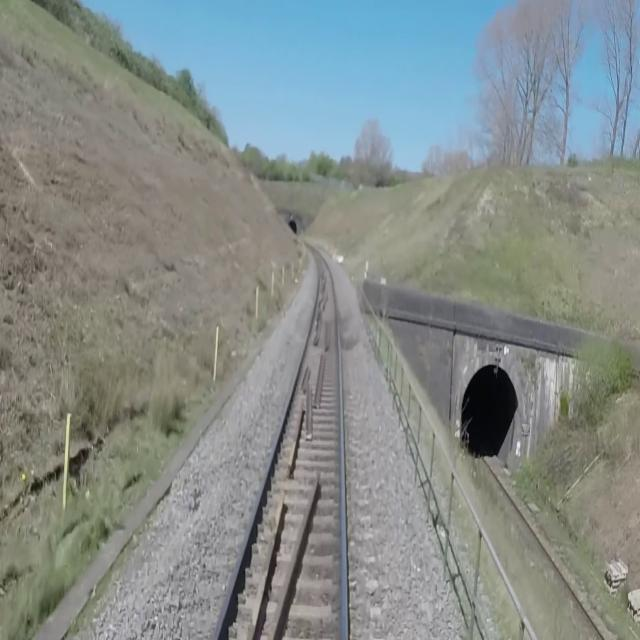rail-track: (220, 247, 342, 639)
